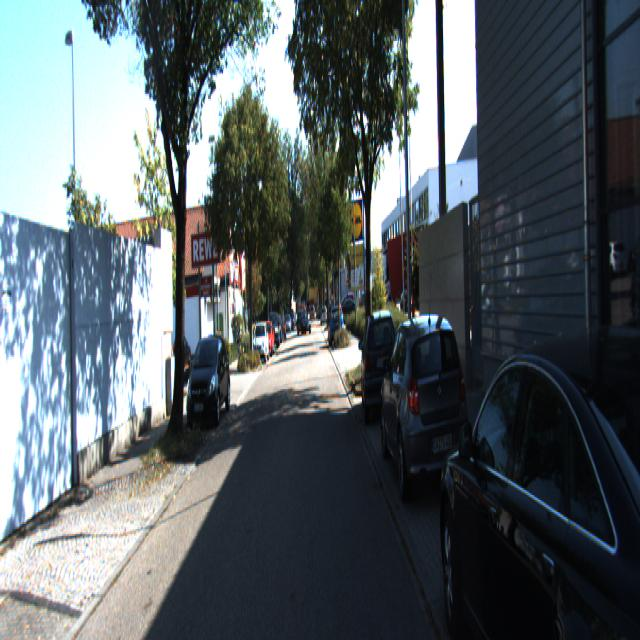Car: (426, 290, 640, 638), (379, 306, 473, 498), (360, 304, 402, 416), (186, 328, 231, 428), (252, 321, 270, 363), (329, 306, 344, 346), (259, 322, 275, 358)
